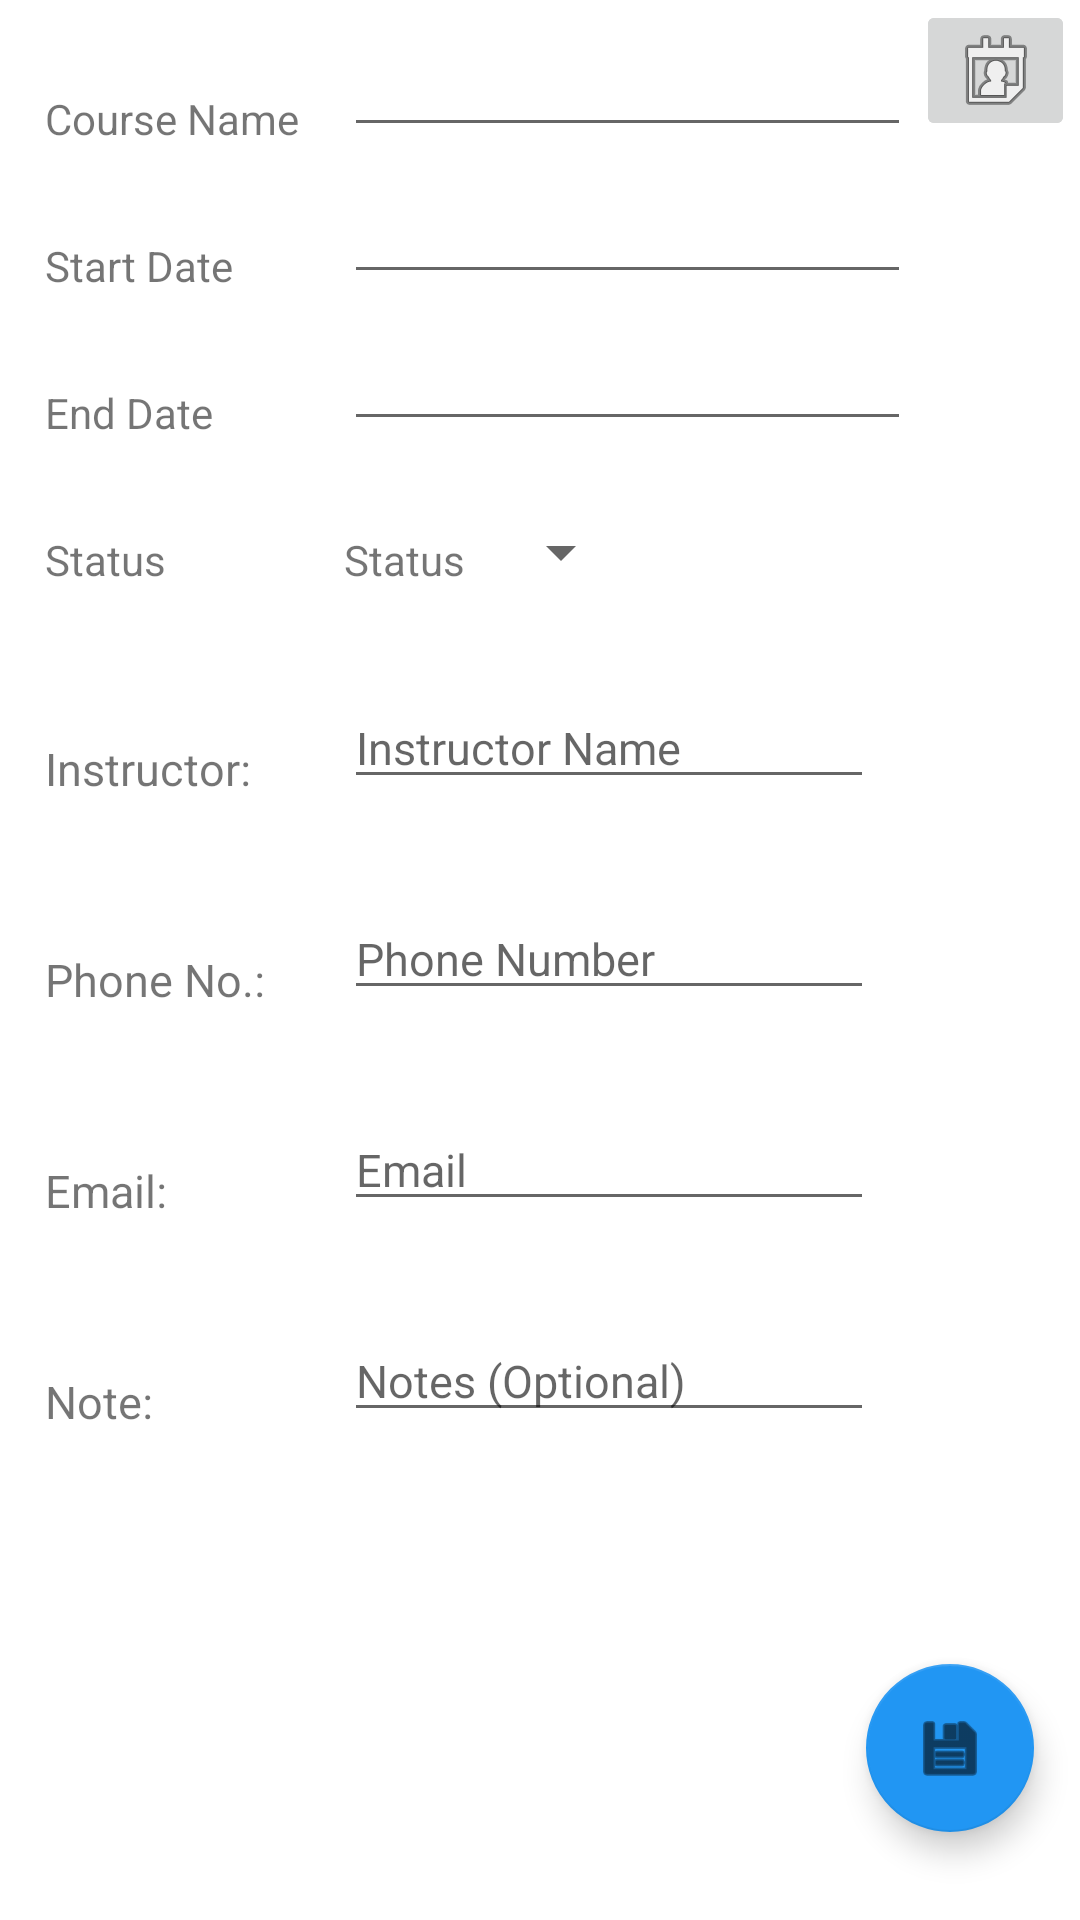

Icons on this 1080px x 1920px Android screen, each with the point to tap as (x,y):
Save Button: (950,1748)
